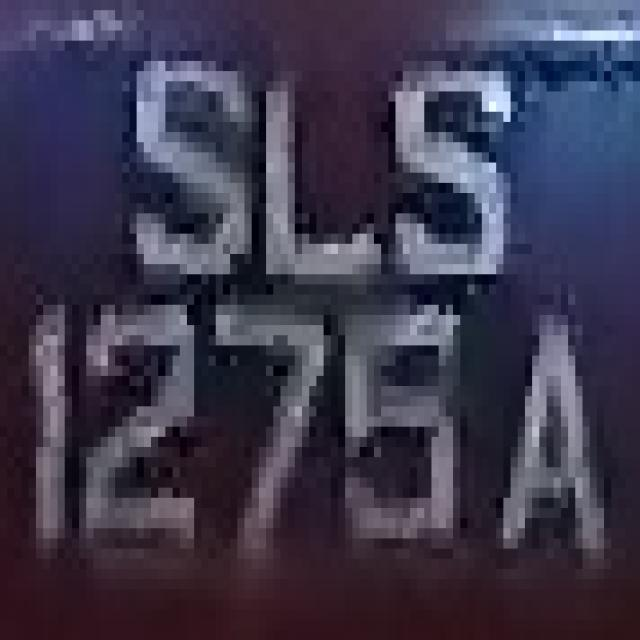1: (14, 254, 79, 549)
2: (79, 274, 209, 579)
5: (331, 274, 446, 569)
7: (187, 284, 331, 548)
A: (467, 315, 604, 589)
L: (237, 51, 381, 315)
S: (108, 20, 244, 315), (374, 51, 525, 294)
